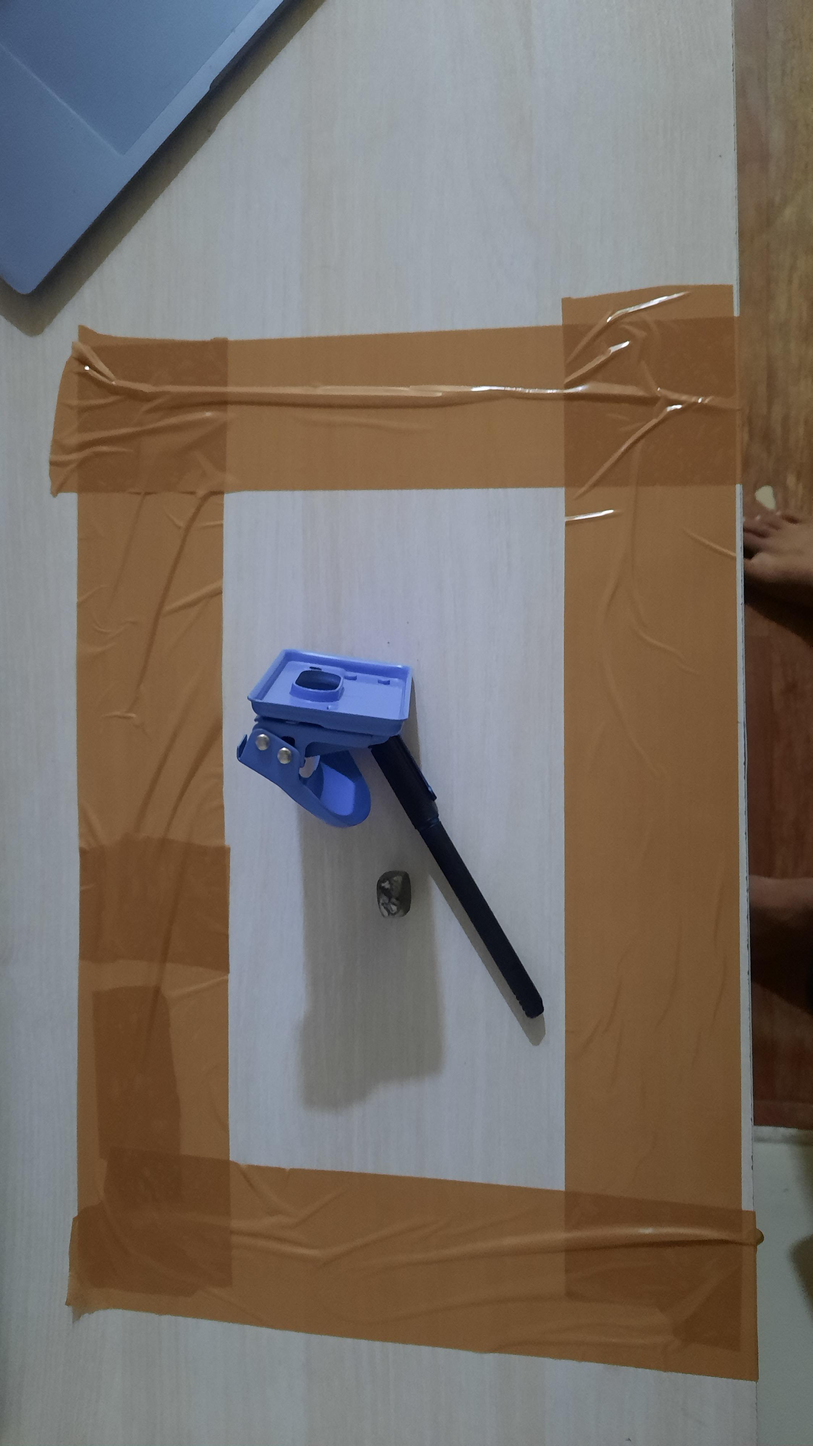Eraser: (376, 870, 412, 919)
Pen: (373, 733, 544, 1019)
Punch: (236, 649, 413, 829)
